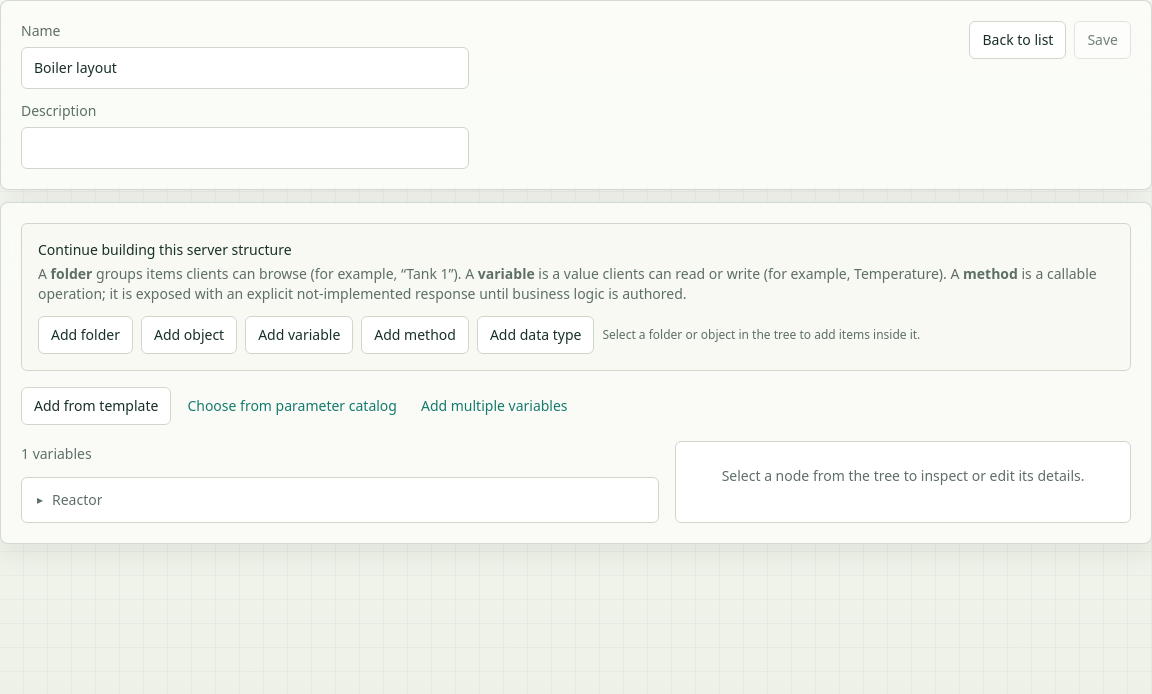
Test: ManualSchemaEditorPage (UI-490) › always adds a data type at the top level
Expected: the text "Reactor" is shown, left=52, top=490, right=102, bottom=510
Step 1. Click the button "Add data type" → (536, 335), box left=477, top=316, right=594, bottom=354
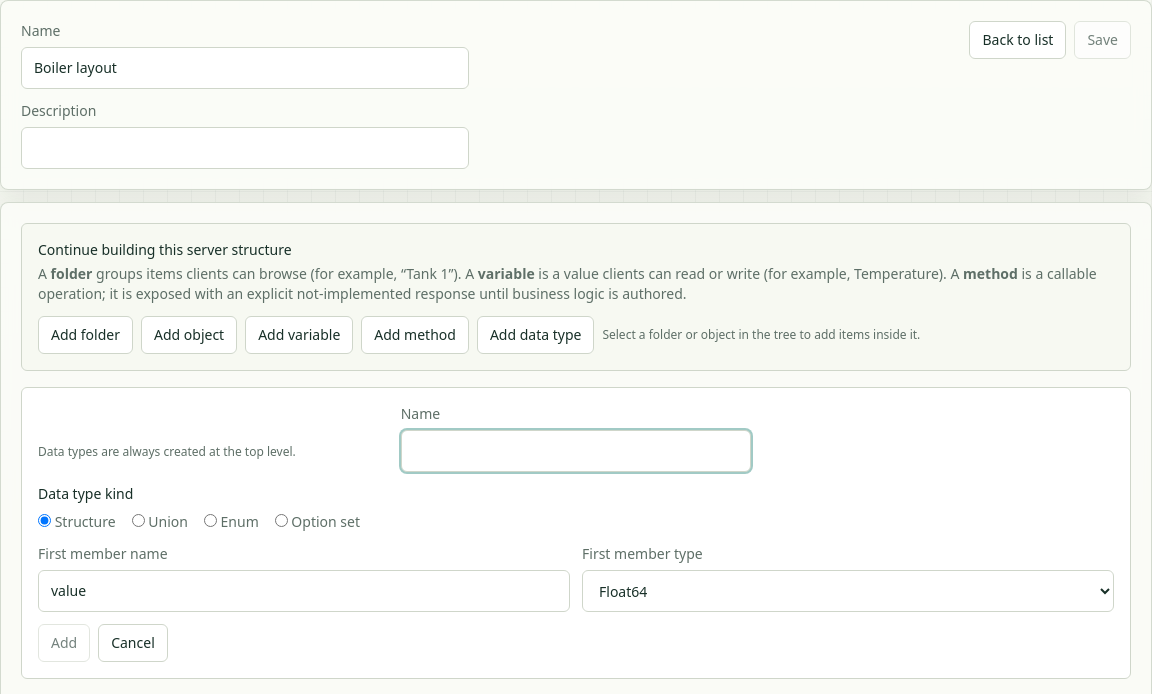
Expected: the text "Data types are always created at the top level." is shown, left=38, top=443, right=296, bottom=460
Step 2. Type "PumpState" into the field labelled "Name" below "Continue building this server structure" → (576, 451), box left=401, top=430, right=751, bottom=472
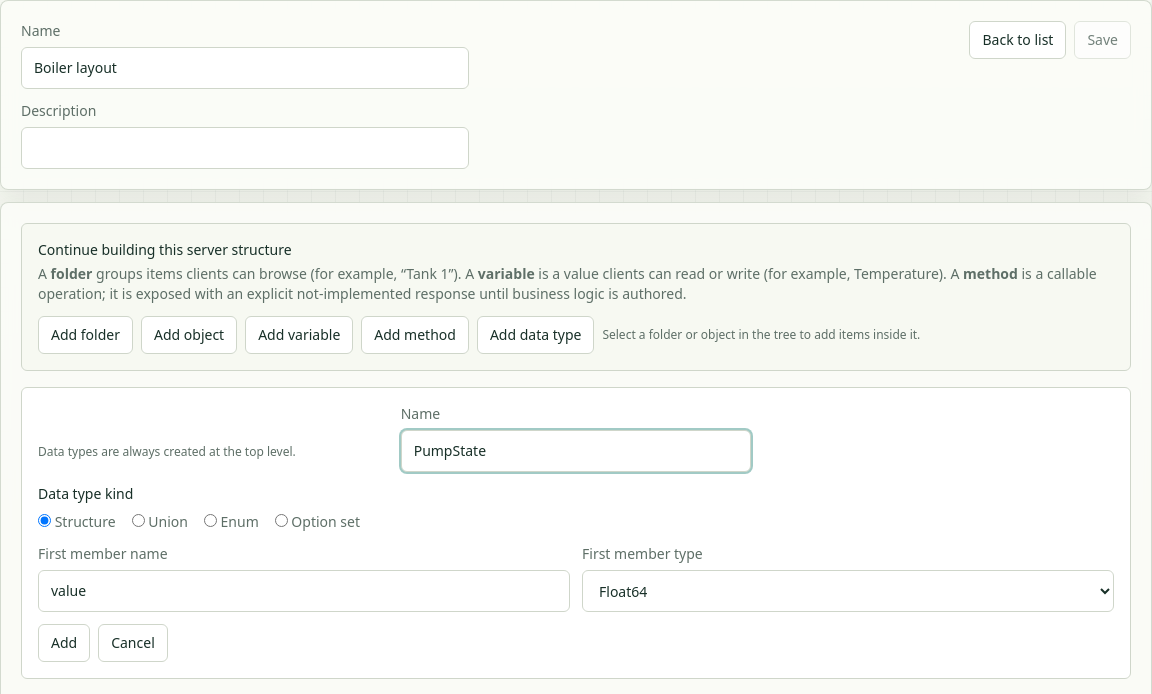
Step 3. Click the button "Add" → (64, 643), box left=38, top=624, right=90, bottom=662
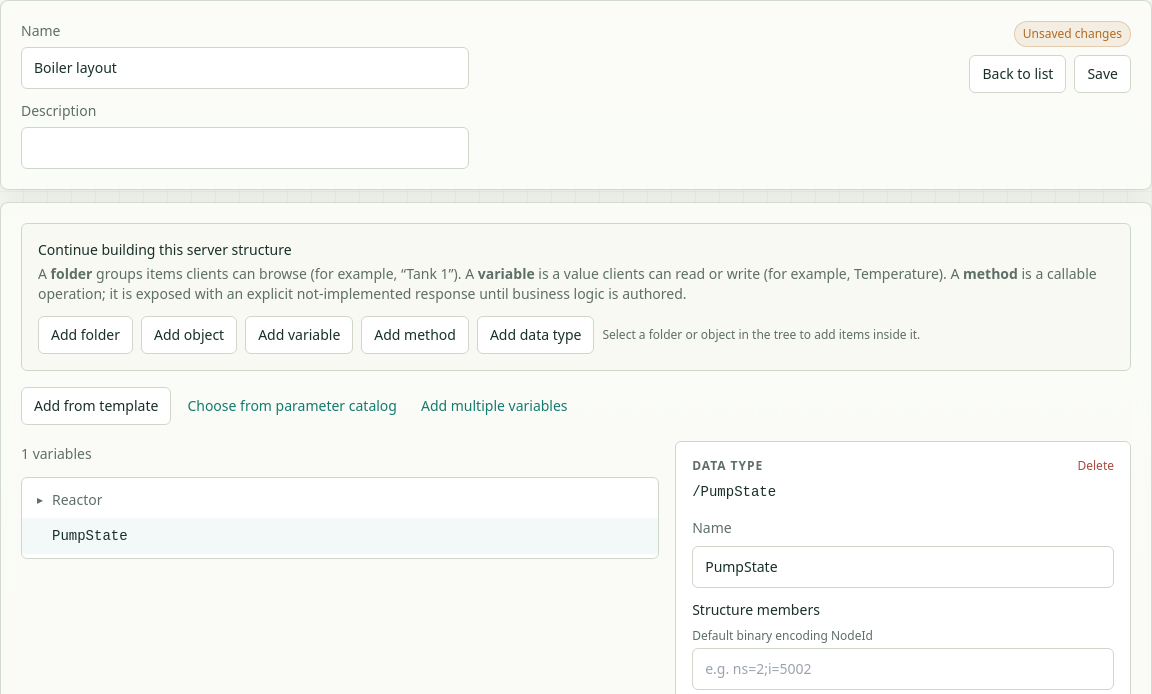
Expected: the text "PumpState" is shown, left=52, top=528, right=128, bottom=544
